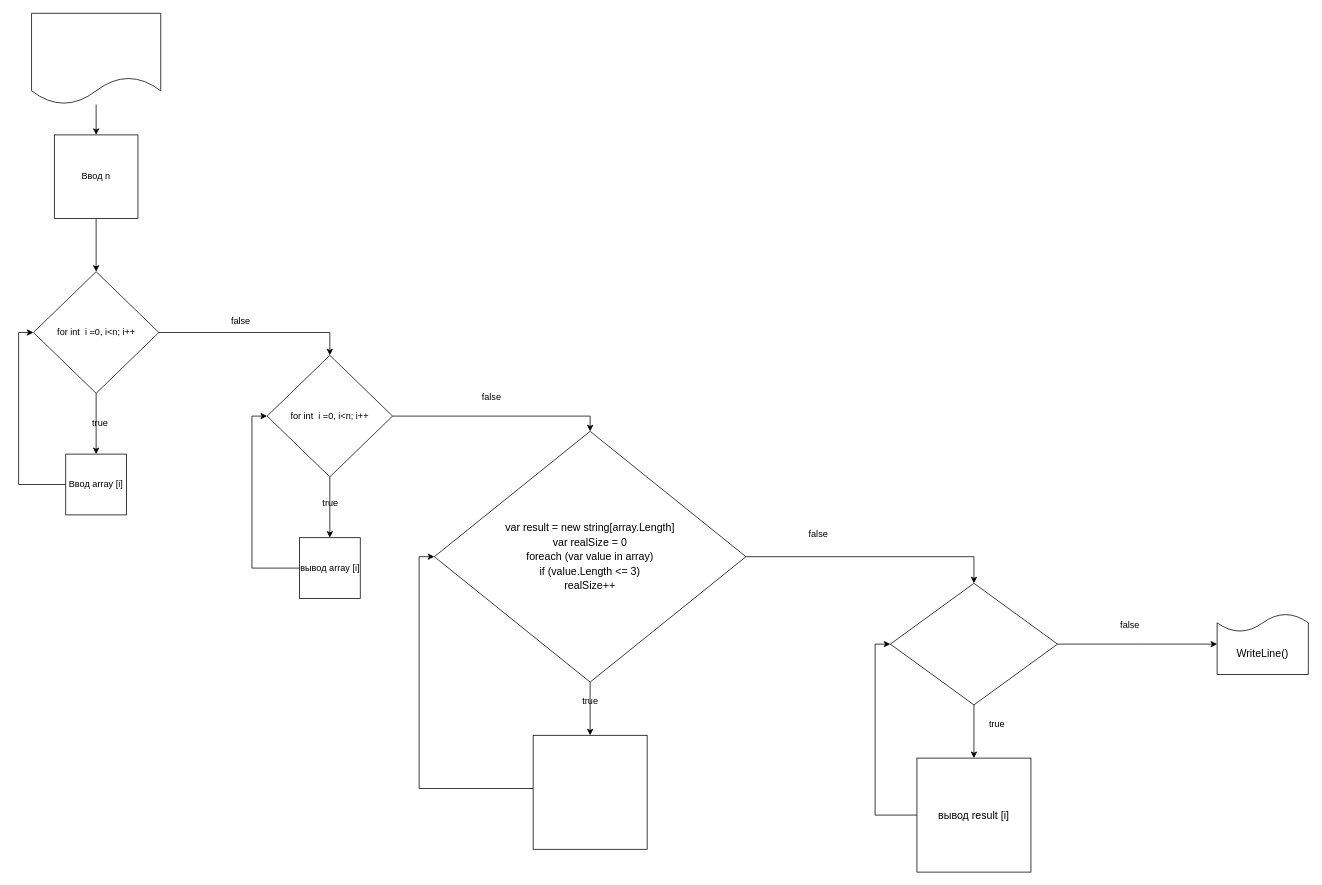
This 1322x885 diagram has some shape labels left out. Each missing label, with the box of its shape:
for int i =0, i< array.Length ; i++: (890, 583, 1058, 705)
int n string array [n]: (31, 13, 161, 104)
result[realSize] = value: (532, 735, 647, 849)
